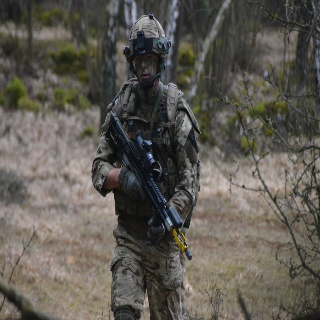rifle: (103, 111, 193, 263)
